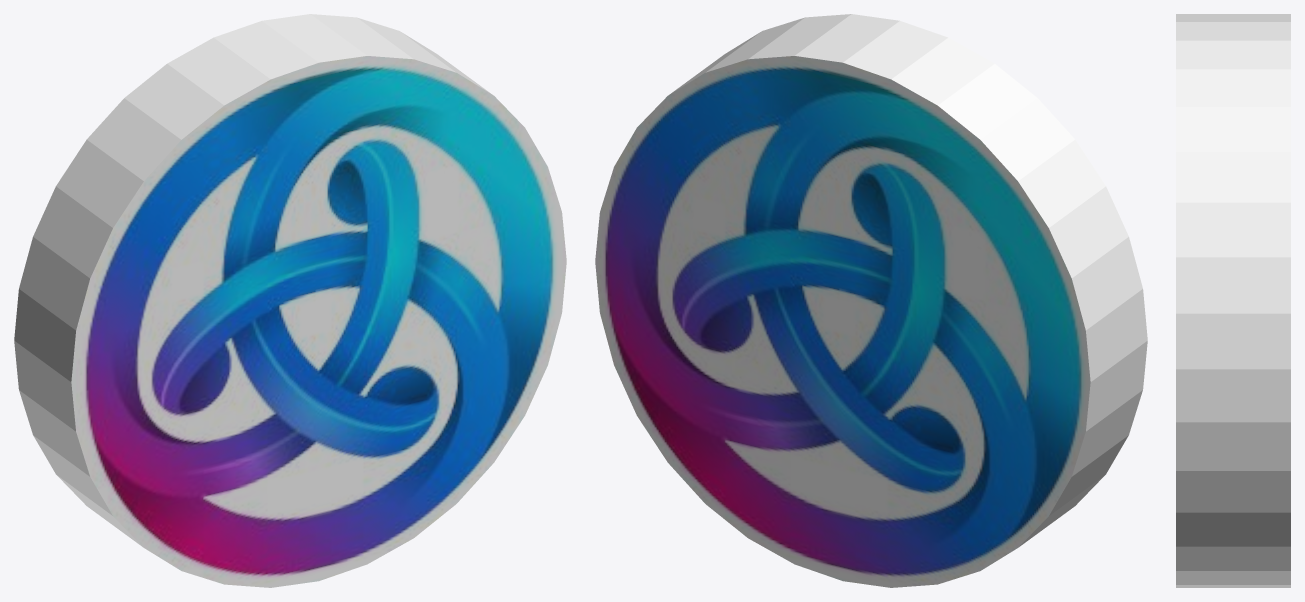
File: astar2.glb
3 views of the same model, side by side, from view 1: azimuth 30°, elevation 25°; view 2: azimuth 150°, elevation 25°; view 3: azimuth 270°, elevation 25° (orthographic).
Visible parts, largest first — view 1: Cylinder; view 2: Cylinder; view 3: Cylinder.
Part boxes in pixels (x1,y1,x2,y2): Cylinder: [14, 14, 566, 587]; Cylinder: [595, 14, 1147, 587]; Cylinder: [1176, 14, 1290, 587].
Bounding box in the file's own units: 2 × 2 × 0.4.
Materials: 1 (1 with a texture image).
